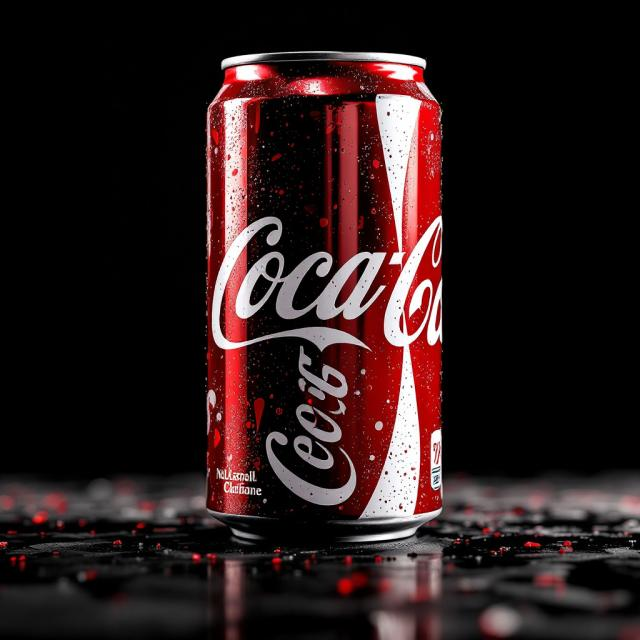cocacola: (191, 51, 455, 548)
